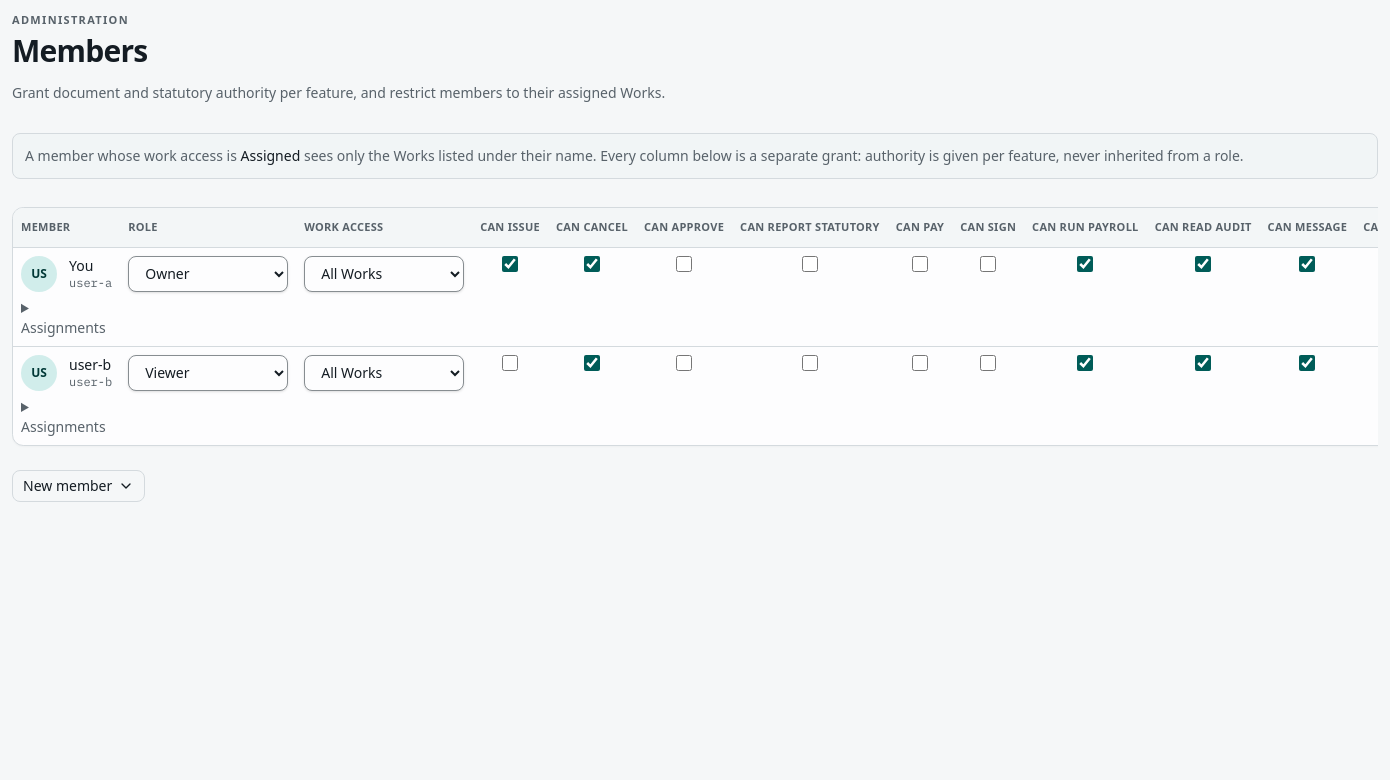
Test: Members › shows the member table and the add form to owners
expect the table is shown: met, box [12,206,1378,446]
expect the text "You" is shown: met, box [69,256,93,275]
Click the button "New member" at (79, 486), box [12,470,145,502]
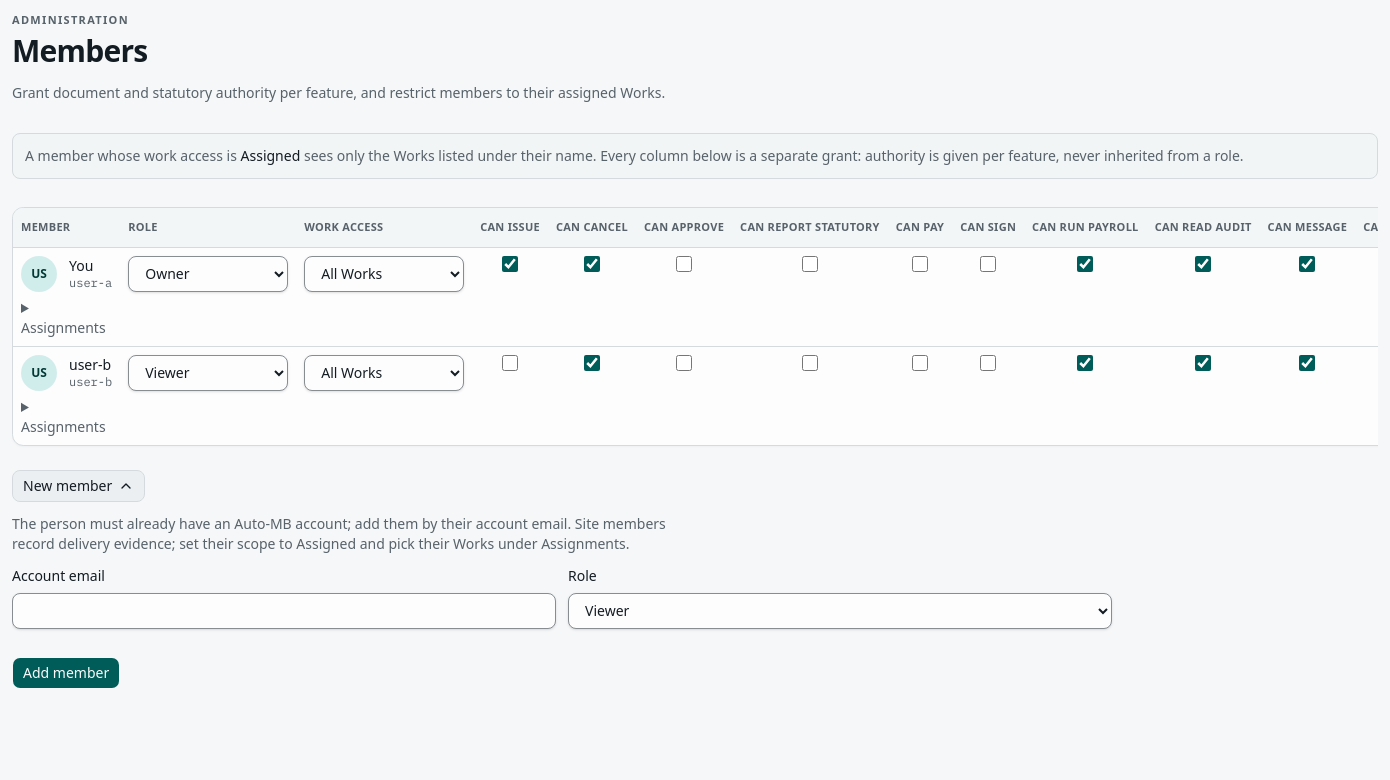
expect the field labelled "Account email" is shown: met, box [12,593,556,629]
